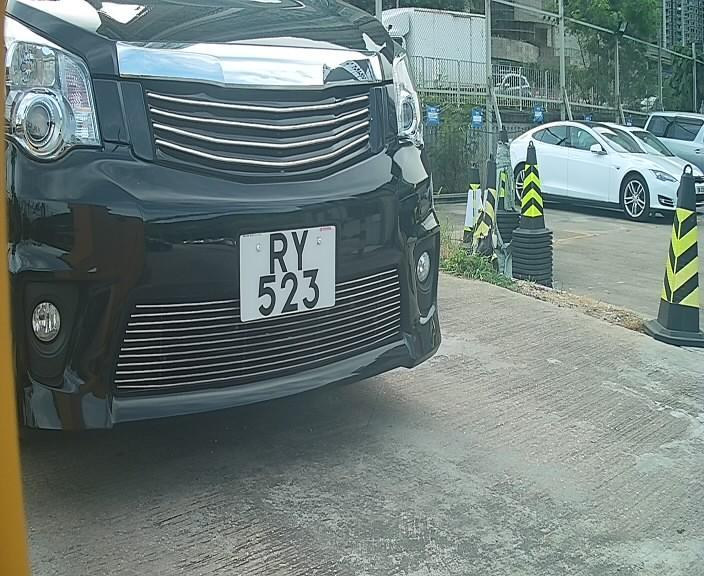privatecar: (7, 6, 469, 445)
